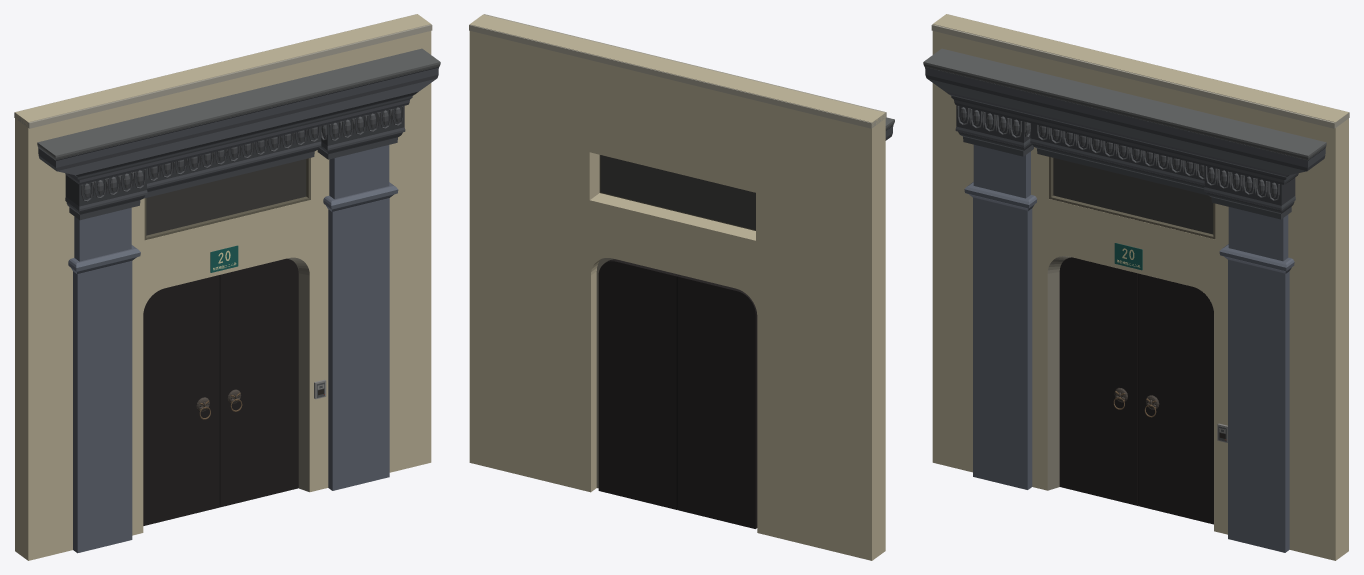
File: lod-source.glb
3 renders of one model, left to right at view 1: azimuth 30°, elevation 25°; view 2: azimuth 150°, elevation 25°; view 3: azimuth 330°, elevation 25°, orthographic.
Visible parts, largest first — view 1: 陕西南路222弄20号住宅院门; view 2: 陕西南路222弄20号住宅院门; view 3: 陕西南路222弄20号住宅院门.
Boxes of the visible parts, x1,y1,x2,y2 form: 陕西南路222弄20号住宅院门: [14, 14, 440, 560]; 陕西南路222弄20号住宅院门: [469, 14, 894, 560]; 陕西南路222弄20号住宅院门: [923, 14, 1349, 560].
Size of the model in its own units: 4.05 by 4.22 by 0.564.
